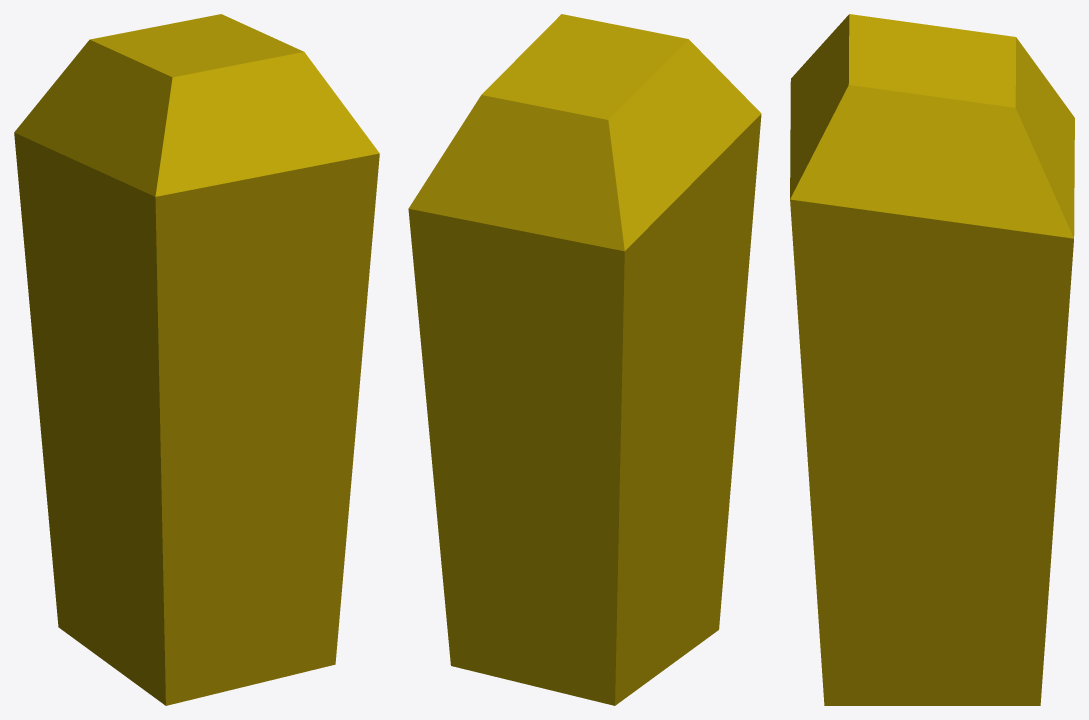
Rendered from BarrierStand.fbx.
The picture shows the model from 3 angles, left to right: view 1: azimuth 30°, elevation 25°; view 2: azimuth 150°, elevation 25°; view 3: azimuth 270°, elevation 25°; orthographic projection. The views are drawn at different scales.
Parts seen in each view (by area): view 1: BarrierStand; view 2: BarrierStand; view 3: BarrierStand.
Part boxes in pixels (box(x1,y1,x2,y2)): BarrierStand: box(14, 14, 379, 705); BarrierStand: box(408, 14, 761, 705); BarrierStand: box(790, 14, 1074, 705).
Size of the model in its own units: 45.46 by 119 by 49.83.
1 material, 1 textured.
